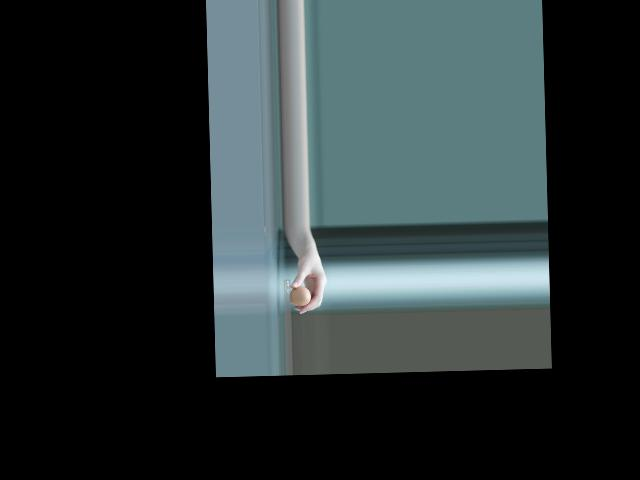egg: (288, 285, 311, 307)
